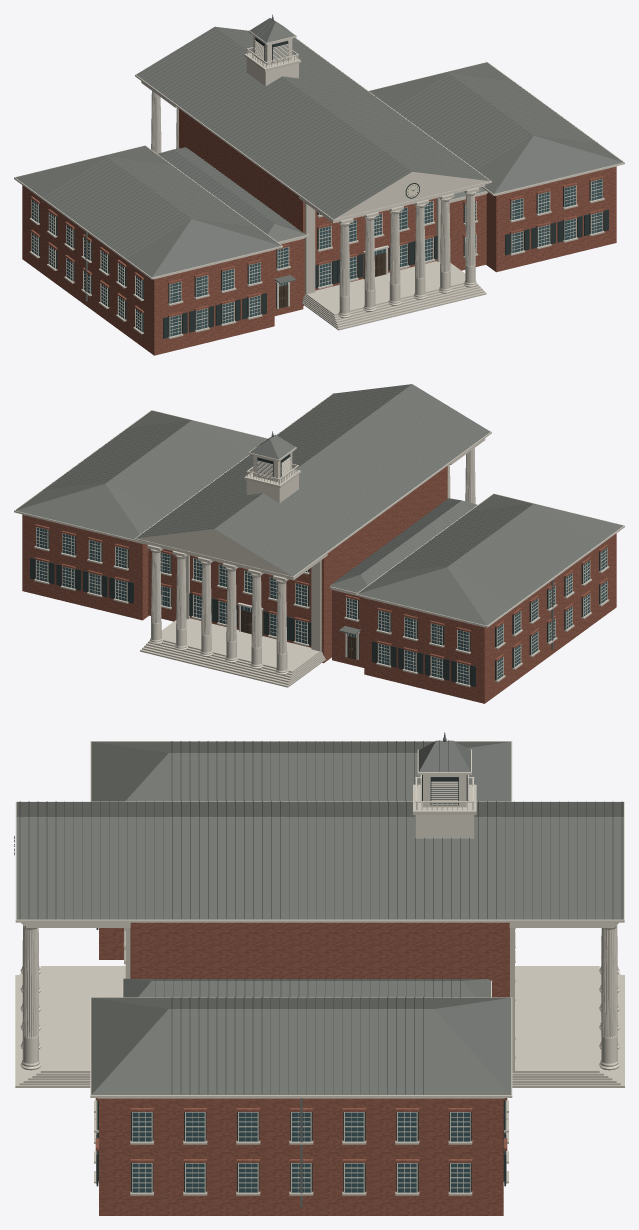
Rendered from lyceum.glb.
3 views of the same model, one above another, from view 1: azimuth 30°, elevation 25°; view 2: azimuth 150°, elevation 25°; view 3: azimuth 270°, elevation 25° (orthographic). The views are drawn at different scales.
Visible parts, largest first — view 1: Louvered bell cupola and railing, East five-bay elevation, Class of 1927 clock and three entrance lanterns, Three-story central block; view 2: Louvered bell cupola and railing, East five-bay elevation, Class of 1927 clock and three entrance lanterns, Three-story central block; view 3: Louvered bell cupola and railing, East five-bay elevation, Three-story central block, Class of 1927 clock and three entrance lanterns.
Boxes of the visible parts, box(x1,y1,x2,y2) form: Louvered bell cupola and railing: box(15, 14, 623, 301); East five-bay elevation: box(14, 23, 624, 355); Class of 1927 clock and three entrance lanterns: box(31, 37, 608, 338); Three-story central block: box(179, 109, 436, 305); Louvered bell cupola and railing: box(15, 384, 623, 649); East five-bay elevation: box(14, 393, 624, 703); Class of 1927 clock and three entrance lanterns: box(30, 454, 607, 686); Three-story central block: box(190, 466, 447, 663); Louvered bell cupola and railing: box(16, 732, 623, 1207); East five-bay elevation: box(15, 741, 624, 1215); Three-story central block: box(130, 922, 509, 997); Class of 1927 clock and three entrance lanterns: box(14, 775, 506, 1192).
Bounding box in the file's own units: 57.87 × 23.66 × 42.15.
Materials: 10 (2 with a texture image).
